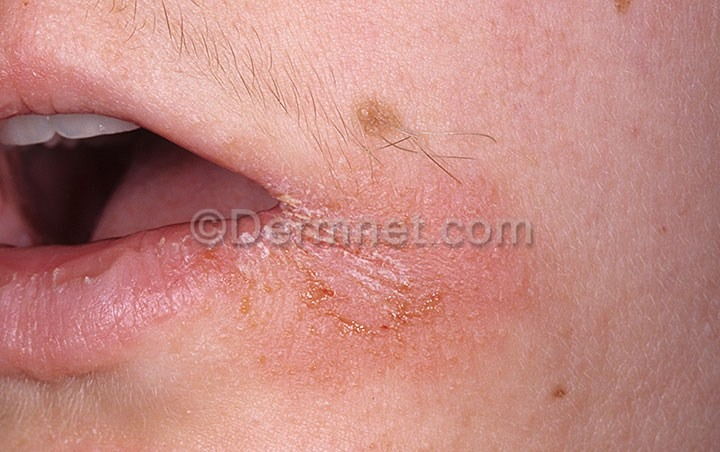Eczema: (246, 236, 565, 382), (322, 172, 542, 236), (354, 99, 403, 146)
